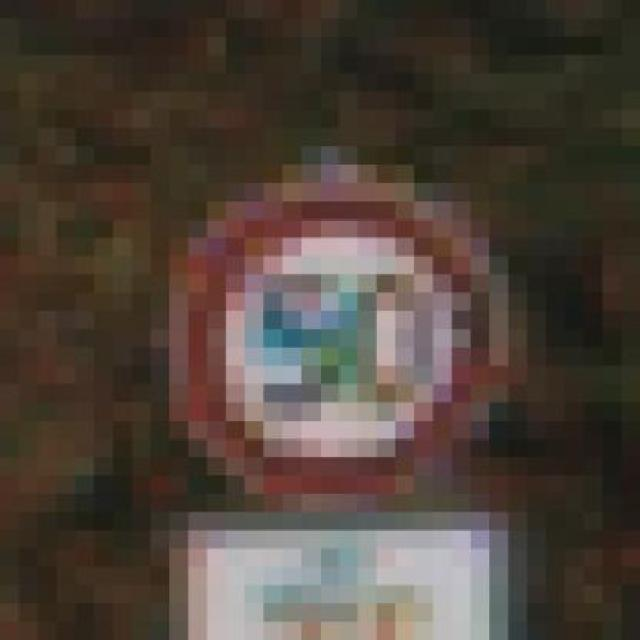Speed limit 50: (164, 157, 513, 506)
